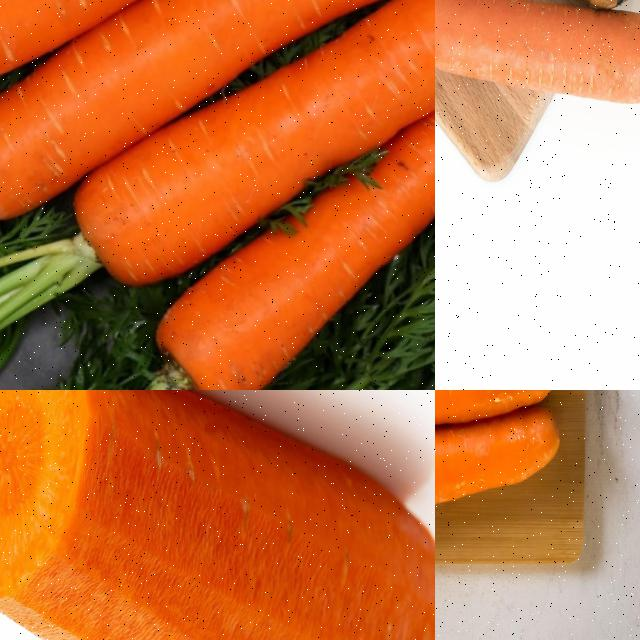carrot: (0, 390, 434, 639), (66, 0, 434, 292), (149, 26, 434, 389), (0, 0, 434, 229), (0, 0, 347, 97), (435, 0, 639, 141), (435, 409, 565, 531)
